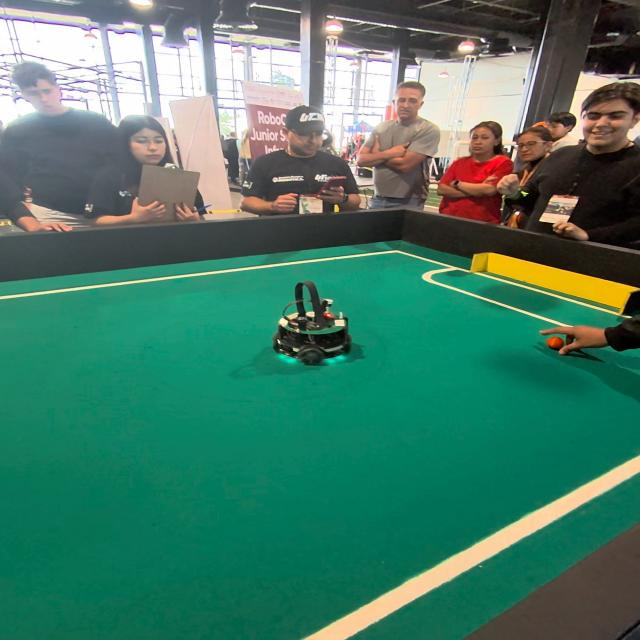Robot: (272, 279, 356, 374)
pelota: (538, 326, 576, 358)
